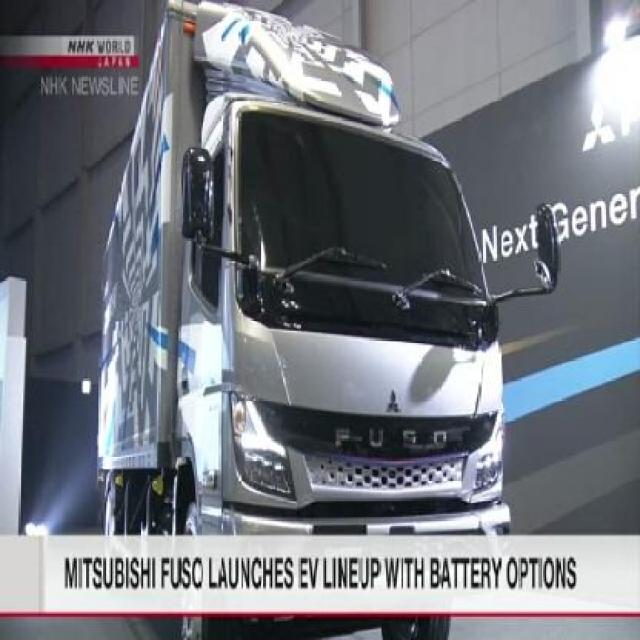truck: (96, 1, 561, 535)
